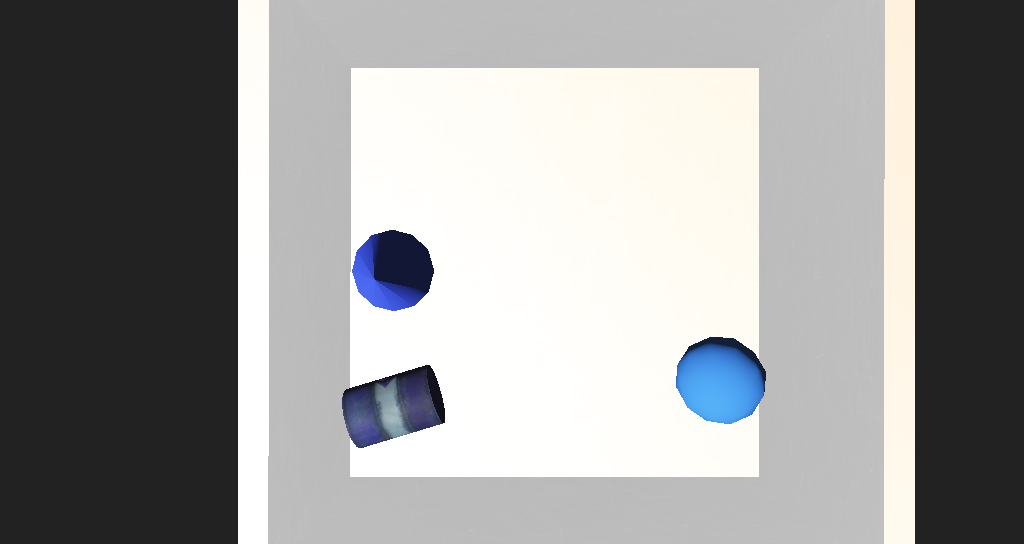cone: (344, 315, 424, 363)
cylinder: (344, 243, 411, 291)
sphere: (596, 303, 657, 346)
